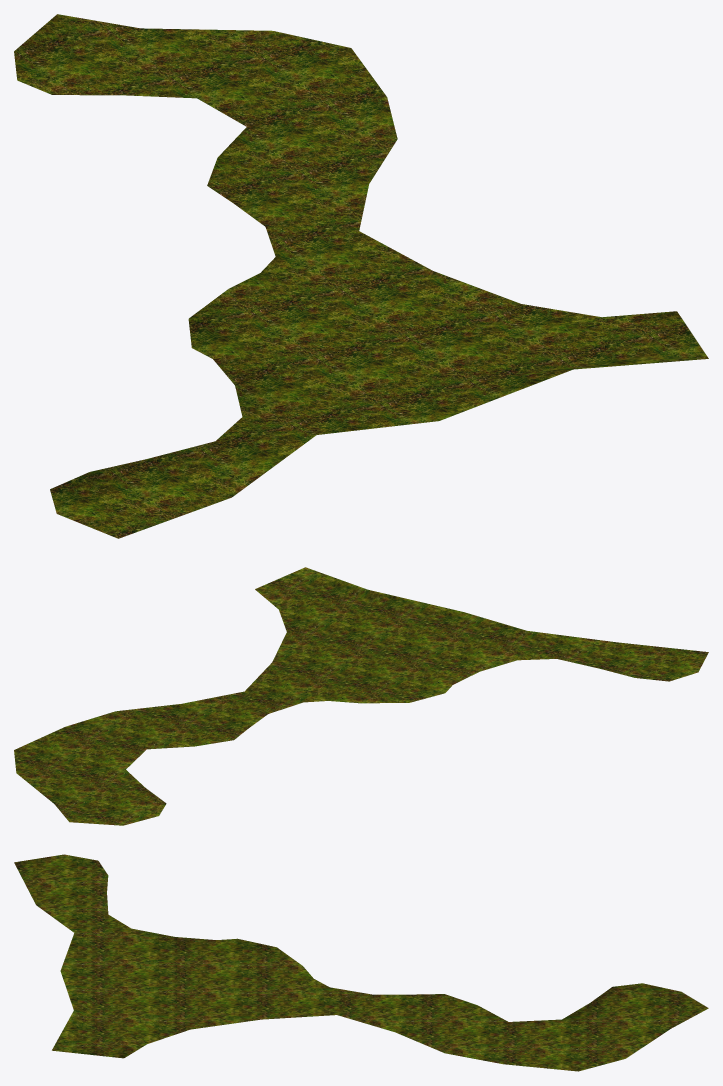
File: TROLLHOLE02_RM_PSURF196.fbx
3 views of the same model, one above another, from view 1: azimuth 30°, elevation 25°; view 2: azimuth 150°, elevation 25°; view 3: azimuth 270°, elevation 25° (orthographic). The views are drawn at different scales.
Visible parts, largest first — view 1: TROLLHOLE02_RM_PSURF196; view 2: TROLLHOLE02_RM_PSURF196; view 3: TROLLHOLE02_RM_PSURF196.
Boxes of the visible parts, left/top/right/bottom form: TROLLHOLE02_RM_PSURF196: left=14, top=14, right=708, bottom=538; TROLLHOLE02_RM_PSURF196: left=14, top=567, right=708, bottom=825; TROLLHOLE02_RM_PSURF196: left=14, top=854, right=708, bottom=1071.
Size of the model in its own units: 370241 by 8020 by 500965.
1 material, 1 textured.
